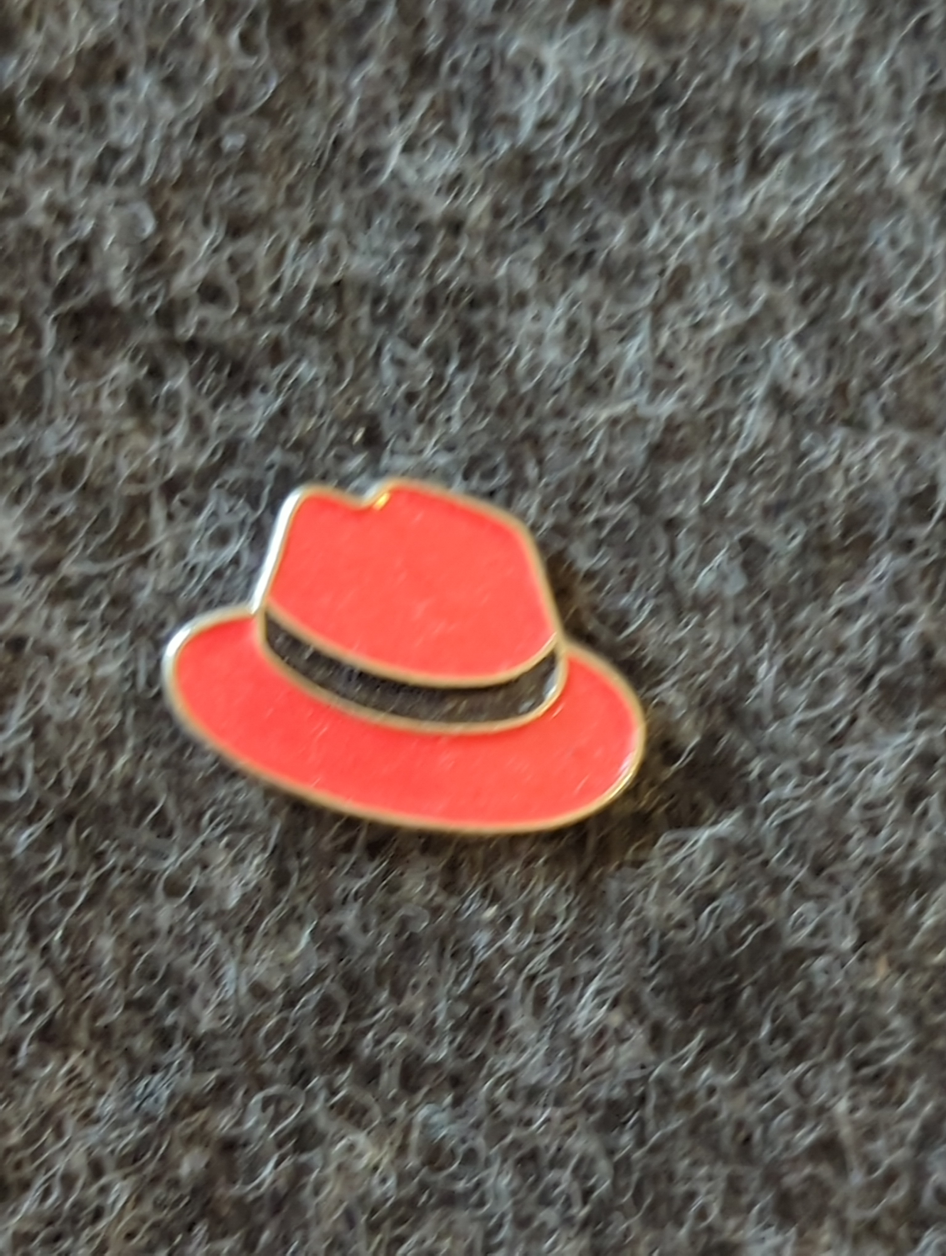Red-Hat: (75, 354, 828, 972)
